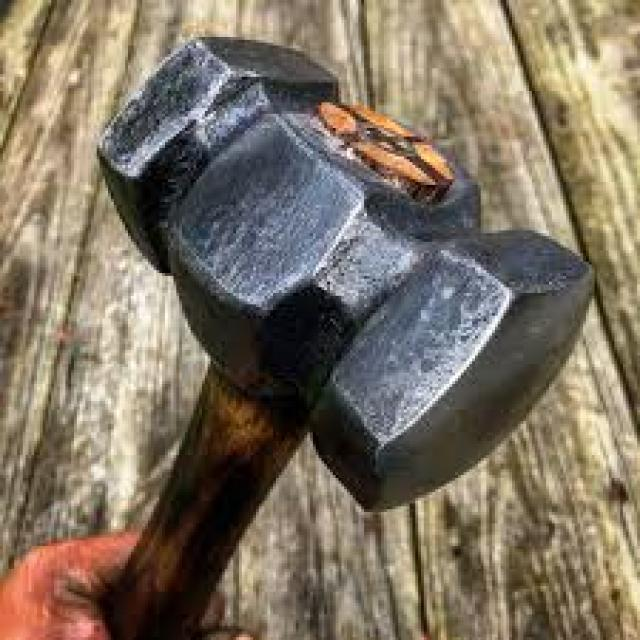hammer: (76, 31, 604, 640)
